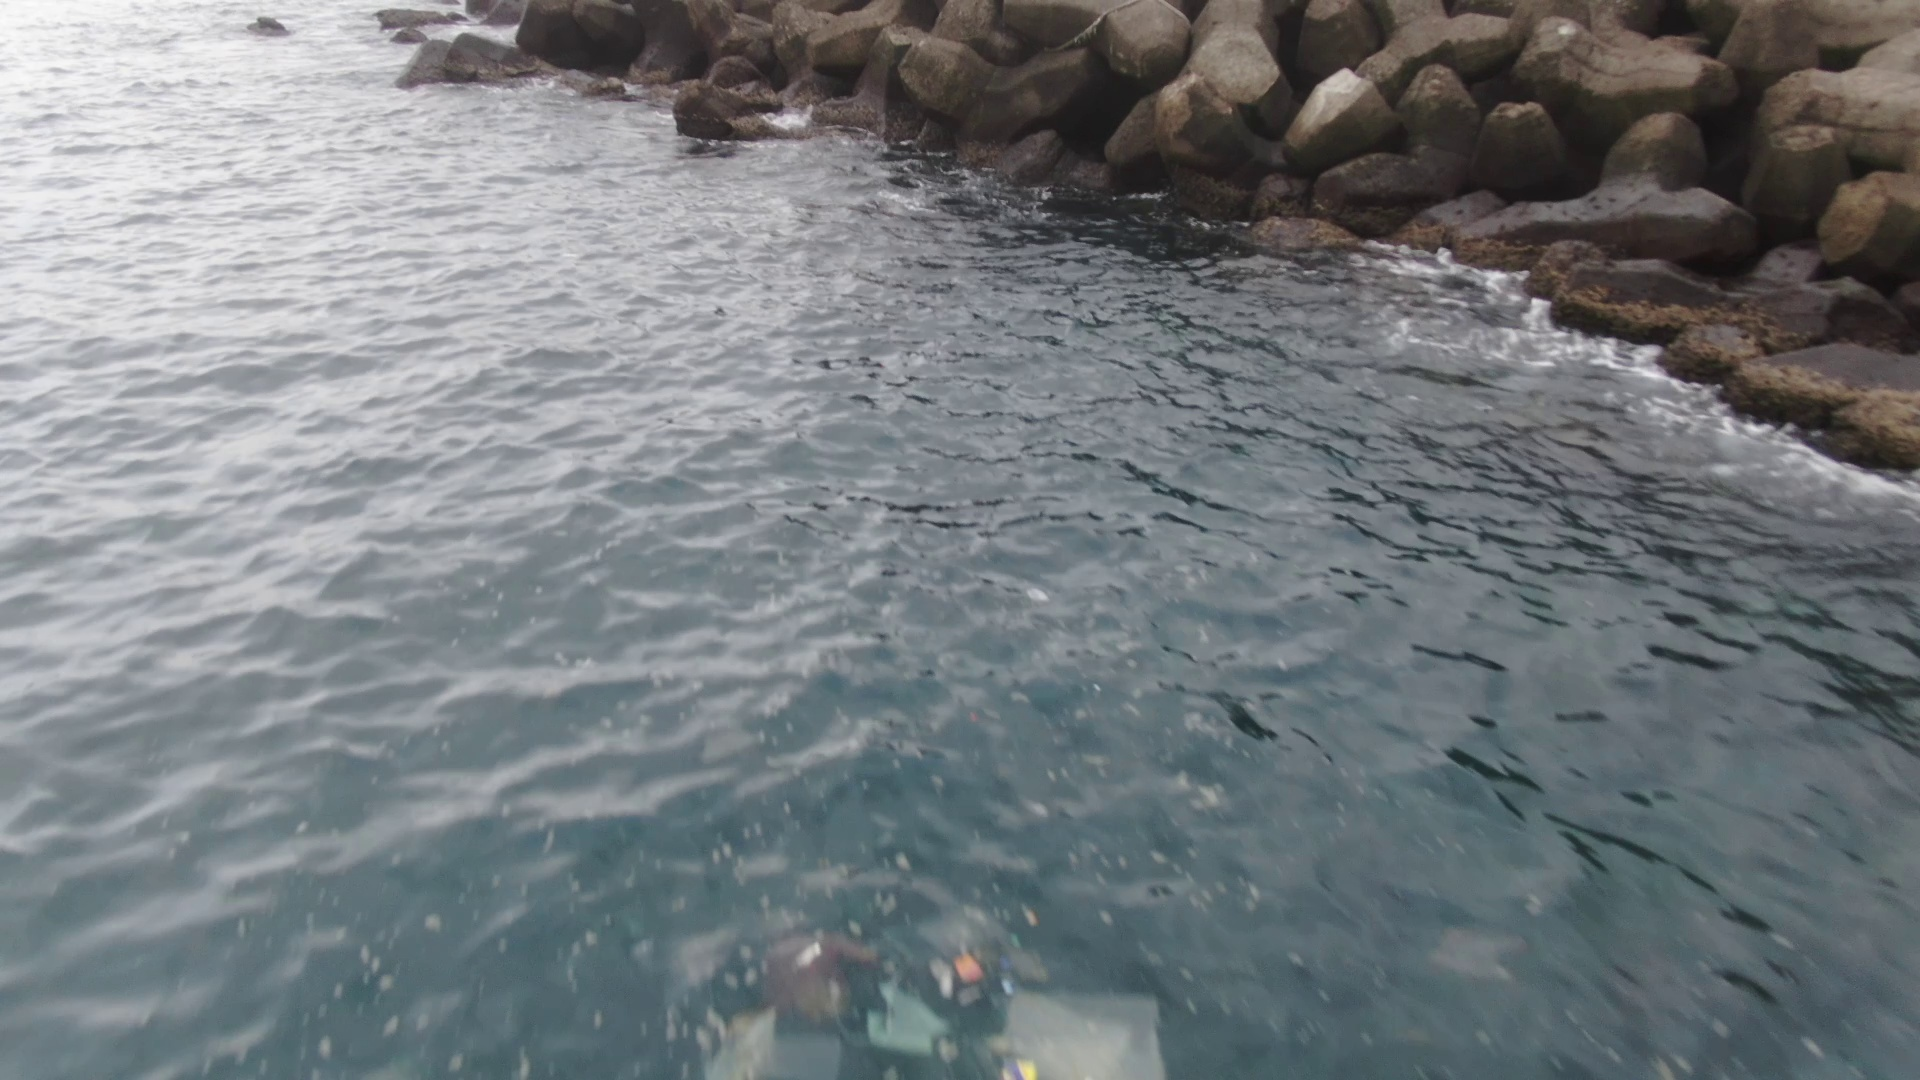garbage: (644, 895, 1221, 1080)
